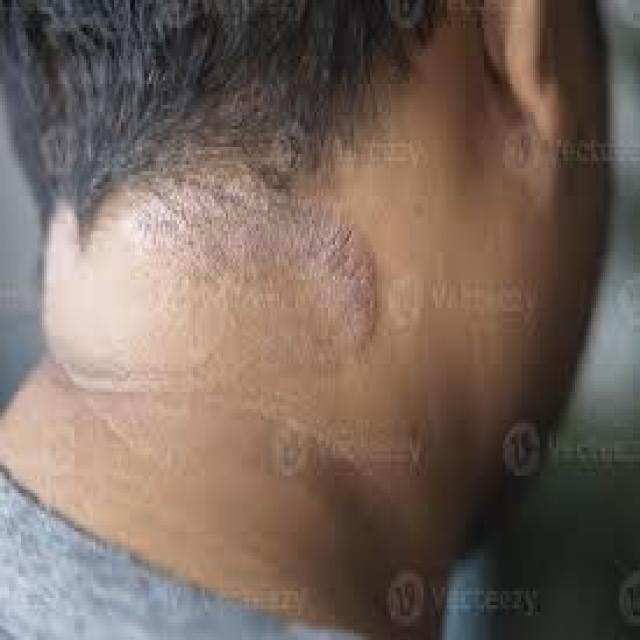Acanthosis Nigricans: (24, 53, 498, 606)
